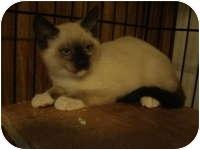siamese: (31, 5, 106, 84)
